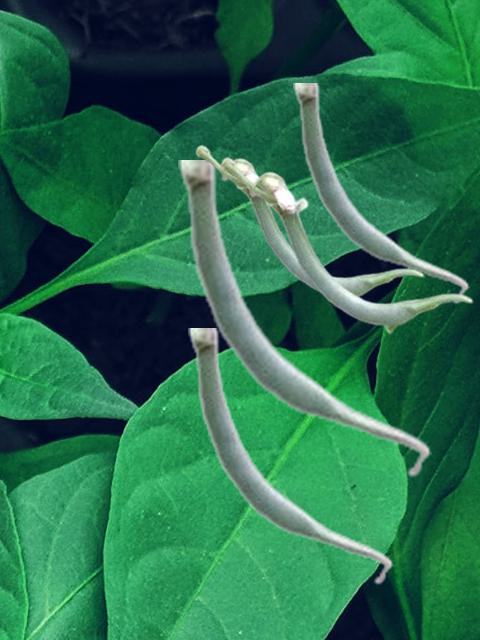french_bean: (178, 160, 430, 478), (188, 328, 392, 585), (220, 156, 472, 333), (293, 83, 468, 303), (195, 144, 423, 296)
